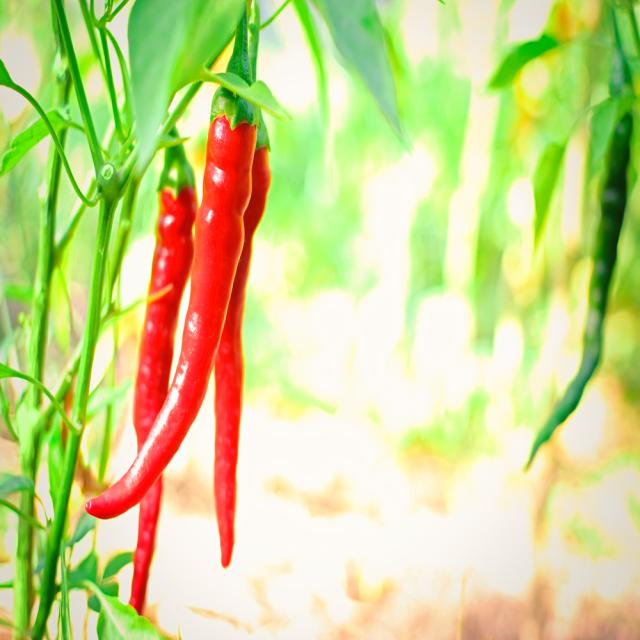Ripe: (86, 114, 256, 518), (128, 146, 198, 612), (214, 141, 271, 568)
Unripe: (525, 112, 632, 468)
